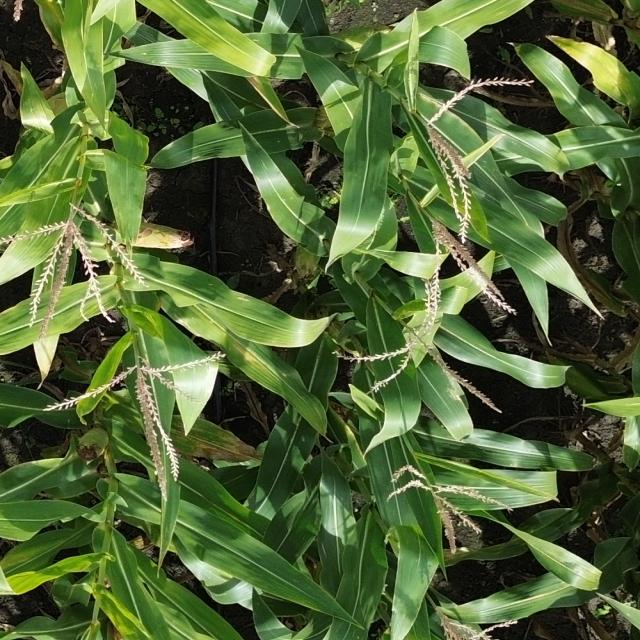northern-leaf-blight: (206, 285, 303, 380), (155, 410, 269, 474)
southern-leaf-blight: (241, 126, 309, 212), (464, 144, 534, 226), (597, 63, 640, 129)
